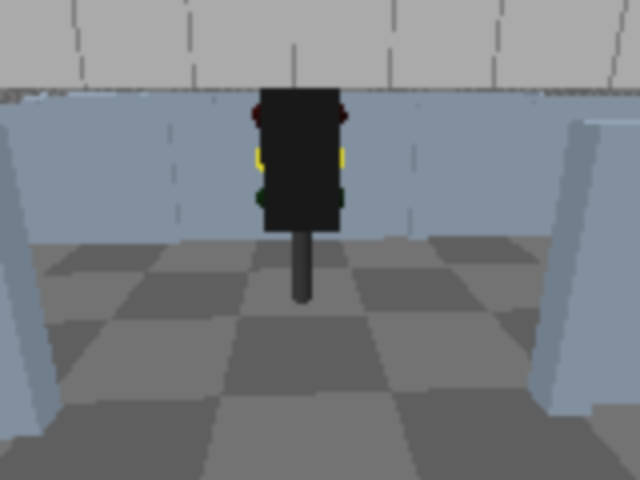traffic_light: (259, 74, 341, 315)
